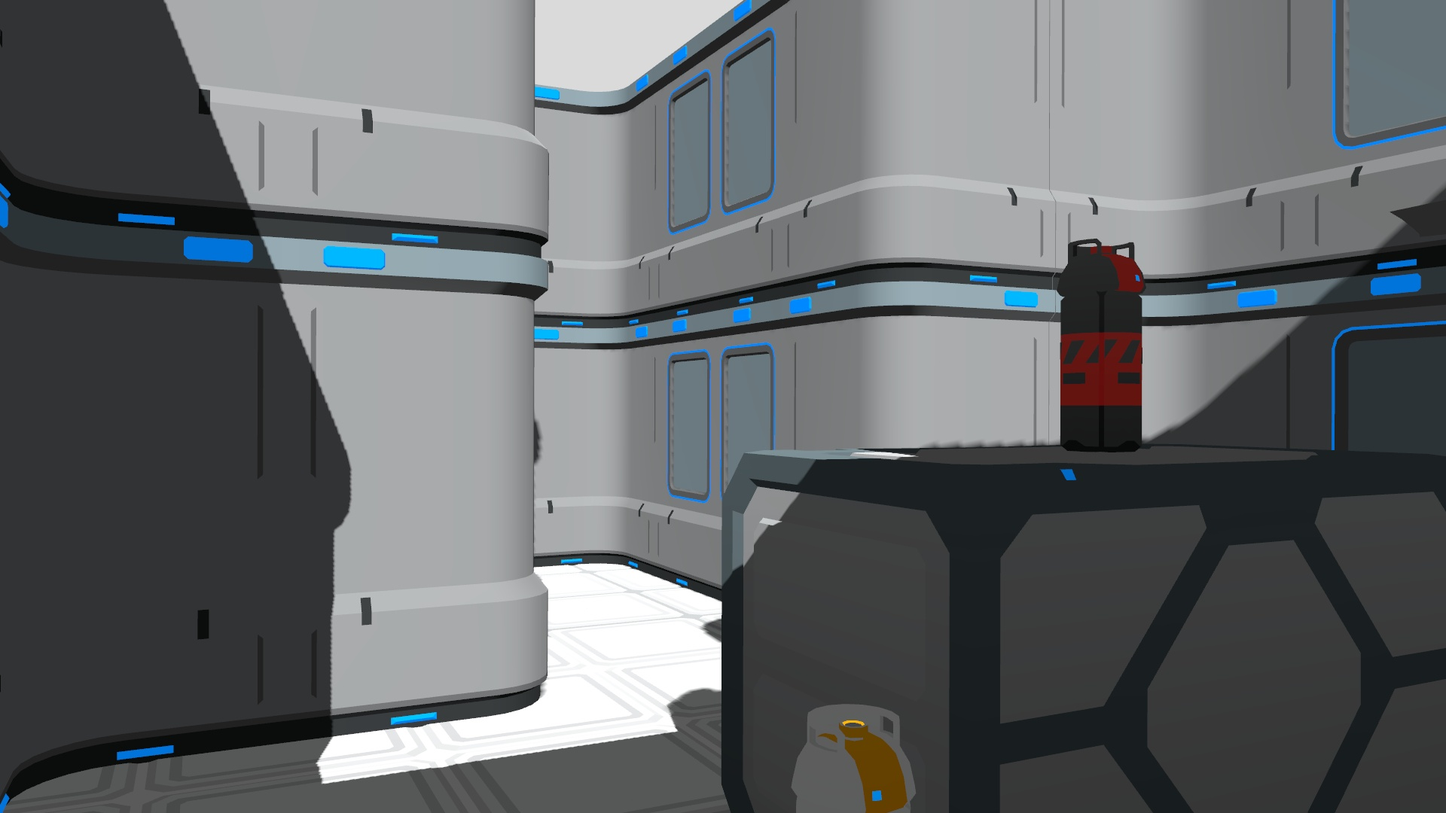red_barrel: (1056, 235, 1148, 459)
yellow_barrel: (786, 699, 923, 813)
